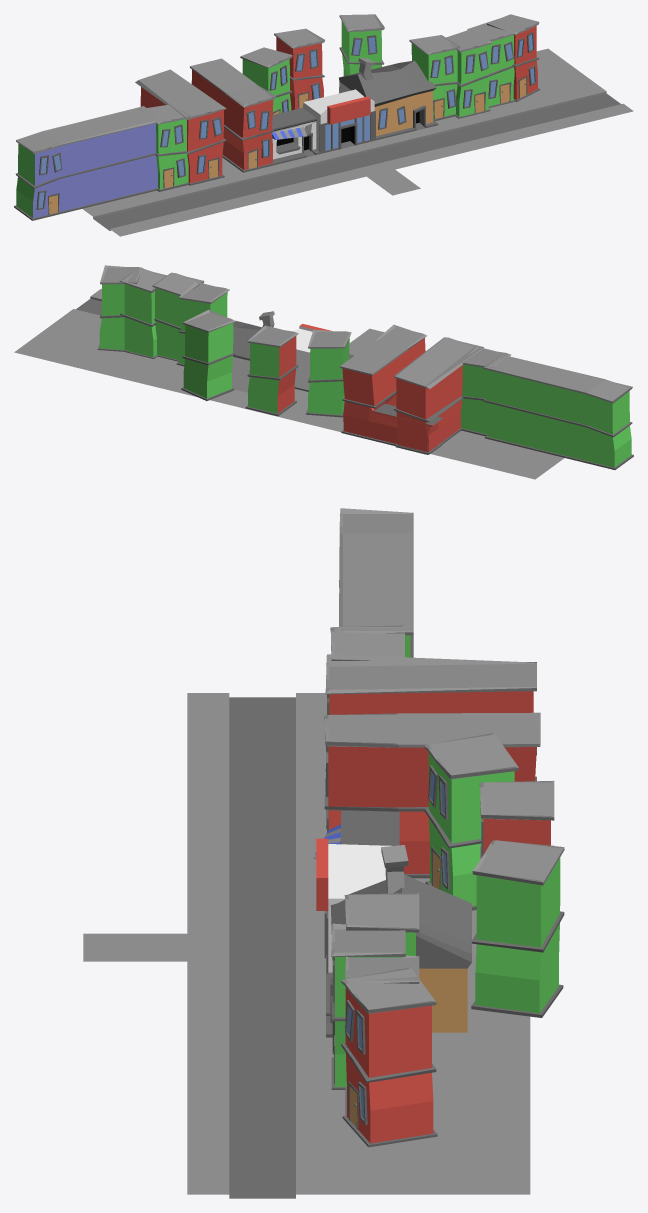
Rendered from Backstreet1.glb.
3 renders of one model, top to bottom at view 1: azimuth 30°, elevation 25°; view 2: azimuth 150°, elevation 25°; view 3: azimuth 270°, elevation 25°, orthographic. The views are drawn at different scales.
Visible parts, largest first — view 1: Cube.011, Plane.col; view 2: Cube.011, Plane.col; view 3: Cube.011, Plane.col.
Boxes of the visible parts, <box> form: Cube.011: <box>14,14,540,220</box>; Plane.col: <box>82,48,633,236</box>; Cube.011: <box>97,265,633,469</box>; Plane.col: <box>14,289,564,479</box>; Cube.011: <box>313,508,564,1147</box>; Plane.col: <box>83,693,530,1198</box>.
Bounding box in the file's own units: 155 × 20.72 × 57.26.
